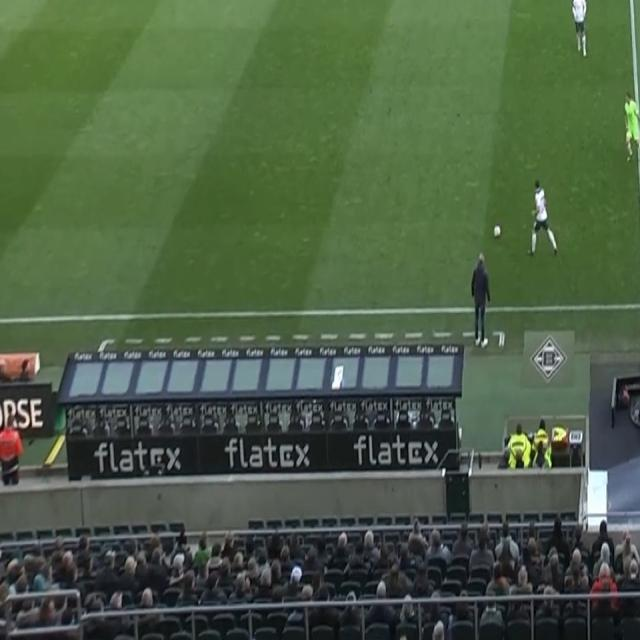ball: (493, 223, 501, 240)
